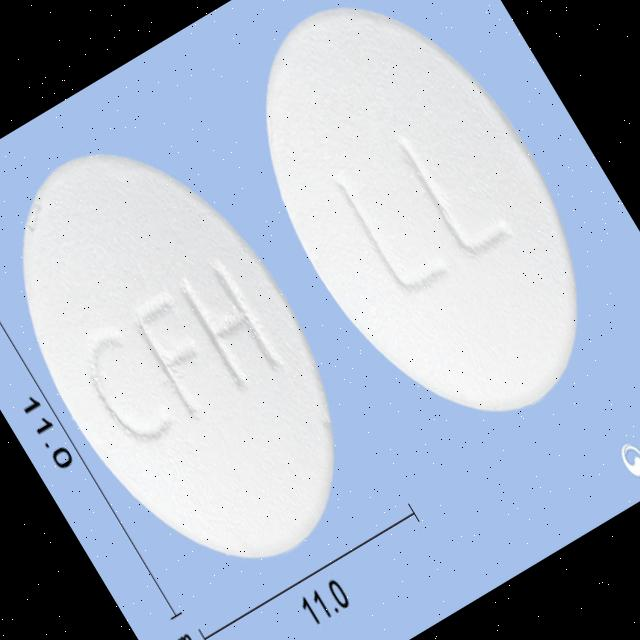Cyfloc: (0, 98, 401, 614), (197, 0, 640, 466)
